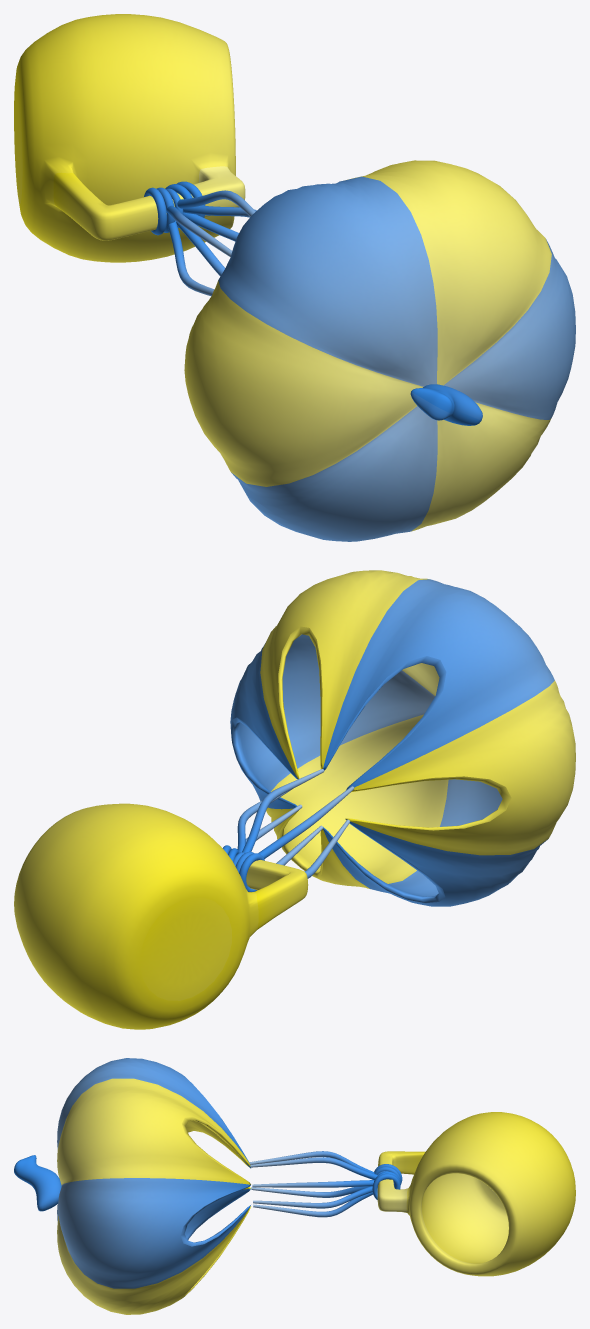
File: FragileMail.fbx
3 views of the same model, one above another, from view 1: azimuth 30°, elevation 25°; view 2: azimuth 150°, elevation 25°; view 3: azimuth 270°, elevation 25° (orthographic). The views are drawn at different scales.
Visible parts, largest first — view 1: FragileMailD_export; view 2: FragileMailD_export; view 3: FragileMailD_export.
Part boxes in pixels (left/top/right/bottom): FragileMailD_export: left=14, top=14, right=575, bottom=541; FragileMailD_export: left=14, top=570, right=575, bottom=1029; FragileMailD_export: left=14, top=1058, right=575, bottom=1314.
Bounding box in the file's own units: 81.4 × 90.71 × 191.
